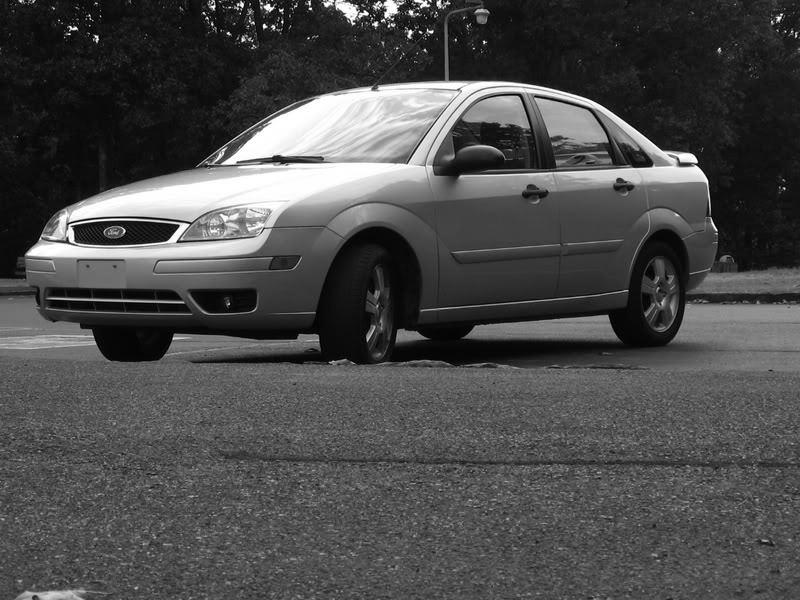car: (24, 79, 724, 369)
